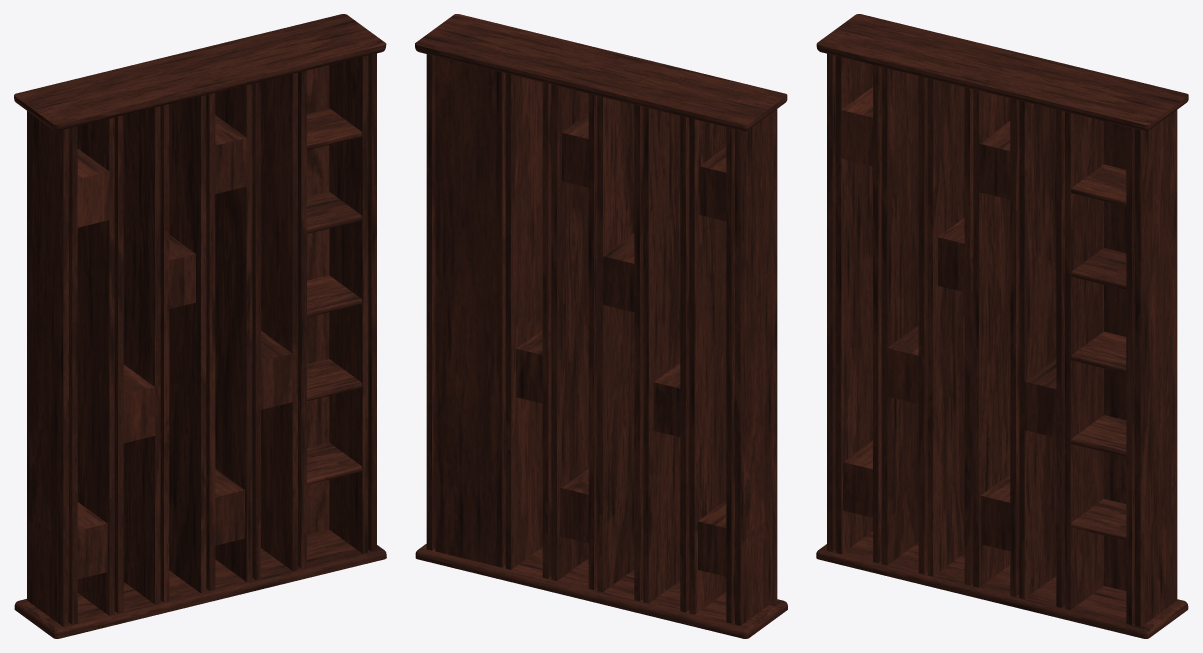
Rendered from StairPartion.fbx.
3 renders of one model, left to right at view 1: azimuth 30°, elevation 25°; view 2: azimuth 150°, elevation 25°; view 3: azimuth 330°, elevation 25°, orthographic.
Visible parts, largest first — view 1: StairPartion; view 2: StairPartion; view 3: StairPartion.
Boxes of the visible parts, x1=… form: StairPartion: x1=14, y1=14, x2=386, y2=638; StairPartion: x1=415, y1=14, x2=787, y2=638; StairPartion: x1=816, y1=14, x2=1188, y2=638.
Size of the model in its own units: 242 by 356 by 54.44.
1 material, 1 textured.
